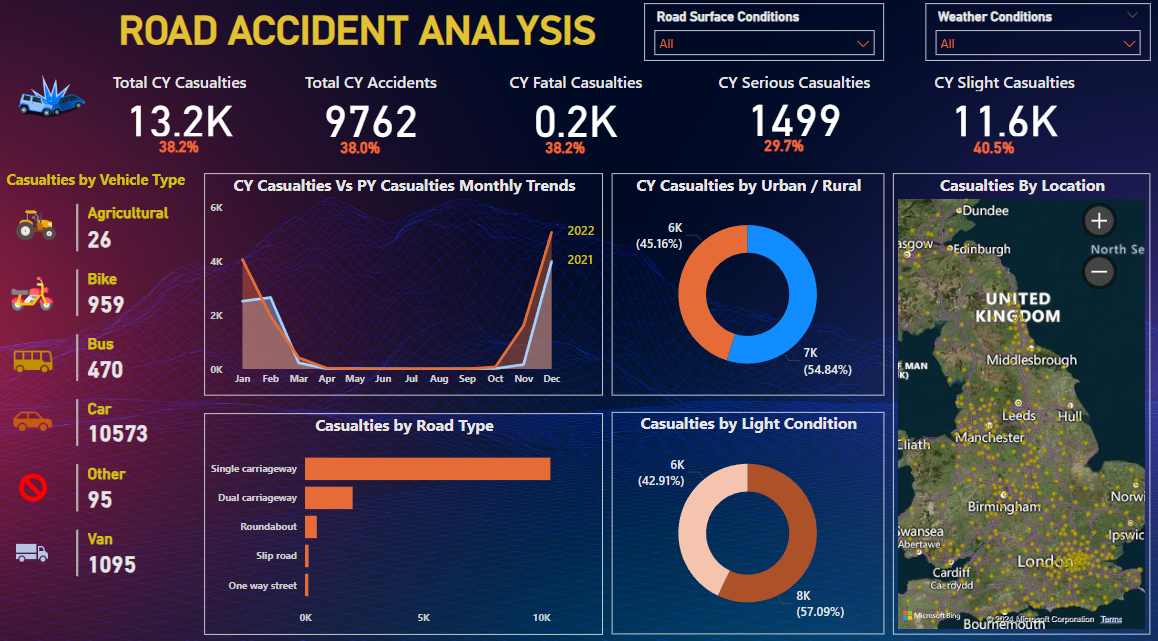

What the dashboard file says about the page in this screenshot:
{"tool":"powerbi","page":{"name":"Page 1","canvas":[1280,720],"ordinal":0},"visuals":[{"type":"textbox","box":[133.1,12.3,536.5,63.1],"z":0},{"type":"card","title":"Total CY  Casualties","fields":{"Values":["Data.CY Casualties"]},"box":[91.9,86.4,225.6,84.3],"z":0,"group":"g2"},{"type":"card","title":"Total CY Accidents","fields":{"Values":["Data.CY Accidents count"]},"box":[301.9,86.4,225.6,85.4],"z":0,"group":"g3"},{"type":"card","title":"CY Fatal  Casualties","fields":{"Values":["Data.CY Casualties"]},"box":[526.9,86.4,225.6,85.4],"z":0,"group":"g4"},{"type":"card","title":"CY Serious  Casualties","fields":{"Values":["Data.CY Casualties"]},"box":[767.1,86.4,225,83.7],"z":0,"group":"g6"},{"type":"card","title":"CY Slight Casualties","fields":{"Values":["Data.CY Casualties"]},"box":[997.6,86.4,225.6,84.3],"z":0,"group":"g5"},{"type":"multiRowCard","fields":{"Values":["Data.Vehicle_Type (groups)","Data.CY Casualties"]},"box":[86.4,227.8,124.9,450.1],"z":1000},{"type":"image","box":[9.6,227.8,75.5,56.3],"z":2000},{"type":"group","id":"g1","title":"Group 1","box":[166,156.4,75.5,27.4],"z":3000,"group":"g2"},{"type":"image","box":[9.6,377.4,68.6,56.3],"z":3000},{"type":"card","title":"YoY","fields":{"Values":["Data.YoY casualties"]},"box":[830.3,154.4,76,27.8],"z":4000,"group":"g6"},{"type":"card","title":"YoY","fields":{"Values":["Data.YoY casualties"]},"box":[166,156.4,76,27.8],"z":4000,"group":"g1"},{"type":"card","title":"YoY","fields":{"Values":["Data.YoY casualties"]},"box":[1060.8,157.1,76,27.8],"z":4000,"group":"g5"},{"type":"card","title":"YoY","fields":{"Values":["Data.YoY Accidents"]},"box":[365.1,158.1,76,28.2],"z":4000,"group":"g3"},{"type":"card","title":"YoY","fields":{"Values":["Data.YoY casualties"]},"box":[590.1,158.1,76,28.2],"z":4000,"group":"g4"},{"type":"image","box":[0,303.3,86.4,56.3],"z":4000},{"type":"image","box":[6.9,443.2,74.1,56.3],"z":5000},{"type":"image","box":[9.6,520.1,68.6,48],"z":6000},{"type":"image","box":[6.9,591.4,71.4,48],"z":7000},{"type":"textbox","box":[9.6,189.4,209.9,38.4],"z":8000},{"type":"areaChart","title":"CY Casualties Vs PY Casualties Monthly Trends","fields":{"Category":["Calendar.Month"],"Y":["Sum(Data.Number_of_Casualties)"],"Series":["Calendar.Date.Variation.Date Hierarchy.Year"]},"box":[231.9,199,437.7,244.3],"z":9000},{"type":"group","id":"g2","title":"Group 2","box":[91.9,86.4,225,97.4],"z":10000},{"type":"group","id":"g3","title":"Group 3","box":[301.9,86.4,225,100.2],"z":11000},{"type":"group","id":"g4","title":"Group 4","box":[526.9,86.4,225,100.2],"z":12000},{"type":"group","id":"g5","title":"Group 6","box":[997.6,86.4,225,98.8],"z":13000},{"type":"group","id":"g6","title":"Group 5","box":[767.1,86.4,225,96.1],"z":14000},{"type":"donutChart","title":"CY Casualties by Urban / Rural","fields":{"Category":["Data.Urban_or_Rural_Area"],"Y":["Data.CY Casualties"]},"box":[679.2,199,299.1,244.3],"z":15000},{"type":"donutChart","title":"Casualties by Light Condition","fields":{"Y":["Data.CY Casualties"],"Category":["Data.Light_Conditions (groups)"]},"box":[679.2,461.1,299.1,244.3],"z":16000},{"type":"barChart","title":"Casualties by Road Type","fields":{"Category":["Data.Road_Type"],"Y":["Data.CY Casualties"]},"box":[231.9,462.4,437.7,242.9],"z":17000},{"type":"map","title":"Casualties By Location","fields":{"Y":["Data.Latitude"],"X":["Data.Longitude"],"Category":["Data.Local_Authority_(District)"]},"box":[988,199,282.7,506.3],"z":18000},{"type":"slicer","fields":{"Values":["Data.Weather_Conditions (groups)"]},"box":[1023.7,12.3,247,63.1],"z":18002},{"type":"slicer","fields":{"Values":["Data.Road_Surface_Conditions (groups)"]},"box":[714.9,12.3,263.5,63.1],"z":18003},{"type":"image","box":[13.7,27.4,101.5,159.2],"z":18004}]}

Visuals, with their boxes in screenshot pixels (x1, y1, x2, y2), scaled from the page's 1280x720 canvas onto the 1158x641 screenshot:
textbox: select_region(120, 11, 606, 67)
"Total CY  Casualties" card: select_region(83, 77, 287, 152)
"Total CY Accidents" card: select_region(273, 77, 477, 153)
"CY Fatal  Casualties" card: select_region(477, 77, 681, 153)
"CY Serious  Casualties" card: select_region(694, 77, 898, 151)
"CY Slight Casualties" card: select_region(903, 77, 1107, 152)
multiRowCard - Data.Vehicle_Type (groups) x Data.CY Casualties: select_region(78, 203, 191, 604)
image: select_region(9, 203, 77, 253)
"Group 1" group: select_region(150, 139, 218, 164)
image: select_region(9, 336, 71, 386)
"YoY" card: select_region(751, 137, 820, 162)
"YoY" card: select_region(150, 139, 219, 164)
"YoY" card: select_region(960, 140, 1028, 165)
"YoY" card: select_region(330, 141, 399, 166)
"YoY" card: select_region(534, 141, 603, 166)
image: select_region(0, 270, 78, 320)
image: select_region(6, 395, 73, 445)
image: select_region(9, 463, 71, 506)
image: select_region(6, 527, 71, 569)
textbox: select_region(9, 169, 199, 203)
"CY Casualties Vs PY Casualties Monthly Trends" areaChart: select_region(210, 177, 606, 395)
"Group 2" group: select_region(83, 77, 287, 164)
"Group 3" group: select_region(273, 77, 477, 166)
"Group 4" group: select_region(477, 77, 680, 166)
"Group 6" group: select_region(903, 77, 1106, 165)
"Group 5" group: select_region(694, 77, 898, 162)
"CY Casualties by Urban / Rural" donutChart: select_region(614, 177, 885, 395)
"Casualties by Light Condition" donutChart: select_region(614, 411, 885, 628)
"Casualties by Road Type" barChart: select_region(210, 412, 606, 628)
"Casualties By Location" map: select_region(894, 177, 1150, 628)
slicer - Data.Weather_Conditions (groups): select_region(926, 11, 1150, 67)
slicer - Data.Road_Surface_Conditions (groups): select_region(647, 11, 885, 67)
image: select_region(12, 24, 104, 166)
